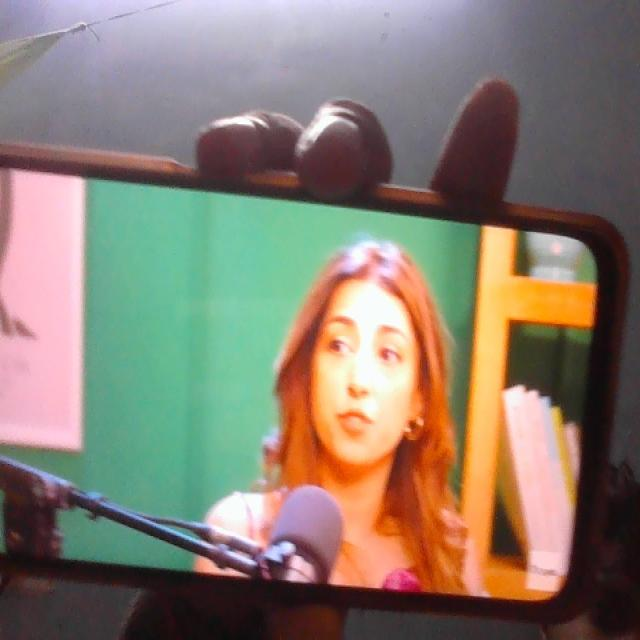fake: (301, 233, 429, 475)
